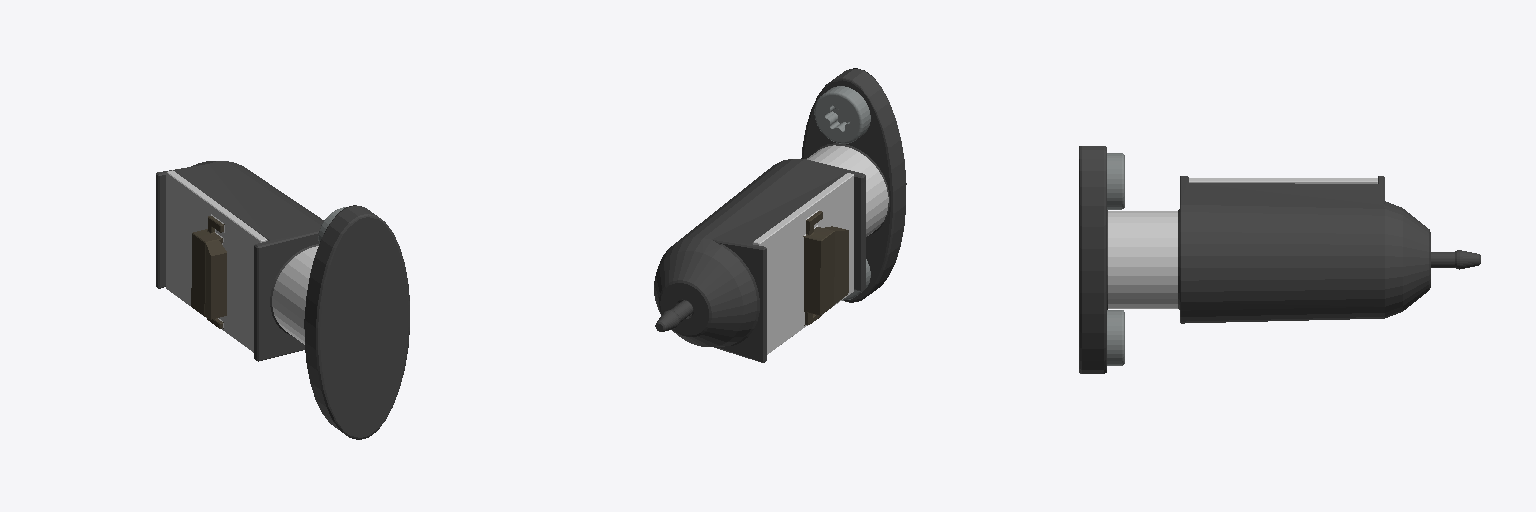
File: Nevelierungsschalter.obj
3 views of the same model, side by side, from view 1: azimuth 30°, elevation 25°; view 2: azimuth 150°, elevation 25°; view 3: azimuth 270°, elevation 25° (orthographic).
Parts seen in each view (by area): view 1: Nevelierungsschalter_Cylinder.002; view 2: Nevelierungsschalter_Cylinder.002; view 3: Nevelierungsschalter_Cylinder.002.
Boxes of the visible parts, x1,y1,x2,y2 form: Nevelierungsschalter_Cylinder.002: [156, 161, 409, 439]; Nevelierungsschalter_Cylinder.002: [654, 68, 906, 362]; Nevelierungsschalter_Cylinder.002: [1079, 146, 1480, 373].
Bounding box in the file's own units: 0.01 × 0.0169 × 0.0275.